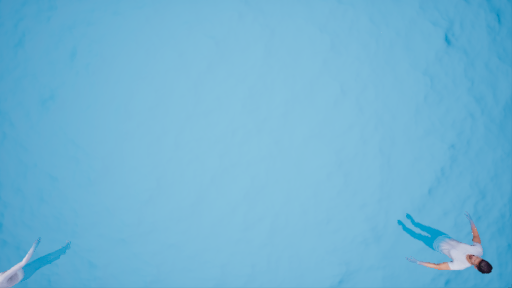person: (390, 204, 502, 279)
